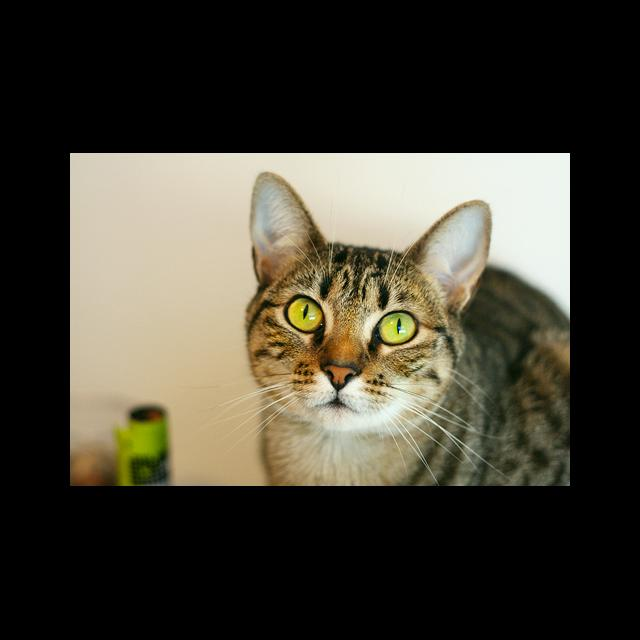animals: (258, 172, 482, 388)
